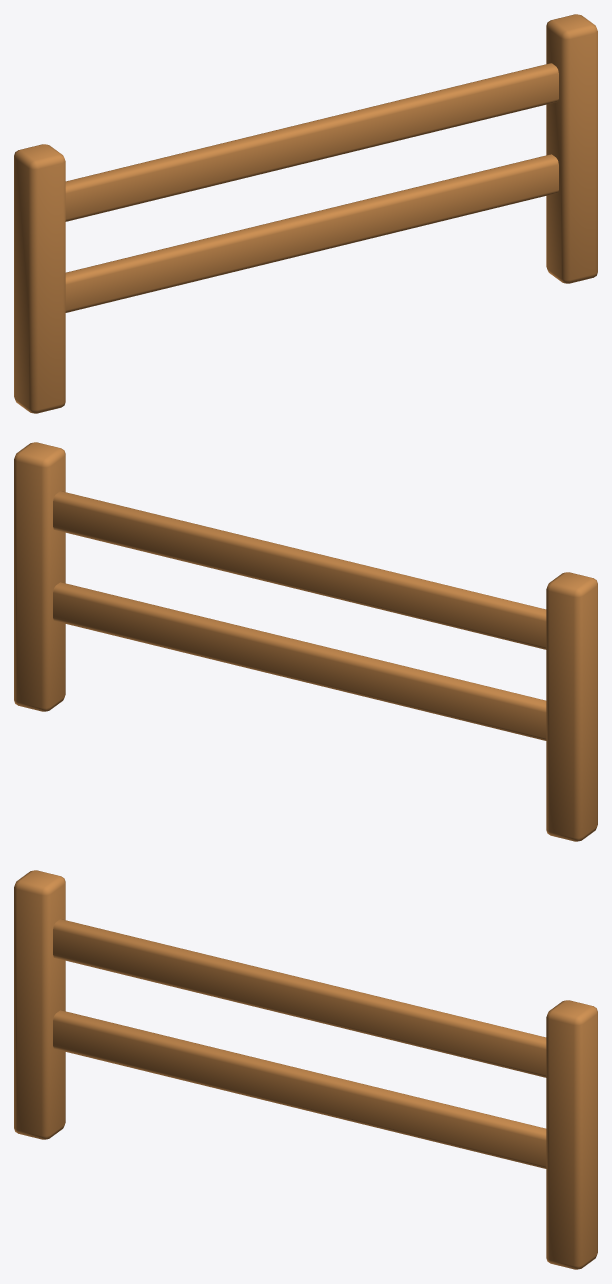
Rendered from fence.glb.
The picture shows the model from 3 angles, top to bottom: view 1: azimuth 30°, elevation 25°; view 2: azimuth 150°, elevation 25°; view 3: azimuth 330°, elevation 25°; orthographic projection.
Parts seen in each view (by area): view 1: fence; view 2: fence; view 3: fence.
Boxes of the visible parts, x1=… form: fence: x1=14, y1=14, x2=597, y2=413; fence: x1=14, y1=442, x2=597, y2=841; fence: x1=14, y1=870, x2=597, y2=1269.
Bounding box in the file's own units: 2.35 × 1 × 0.15.
